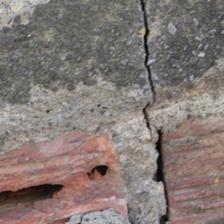Crack: (65, 107, 158, 159), (119, 126, 178, 196), (166, 172, 191, 192)
